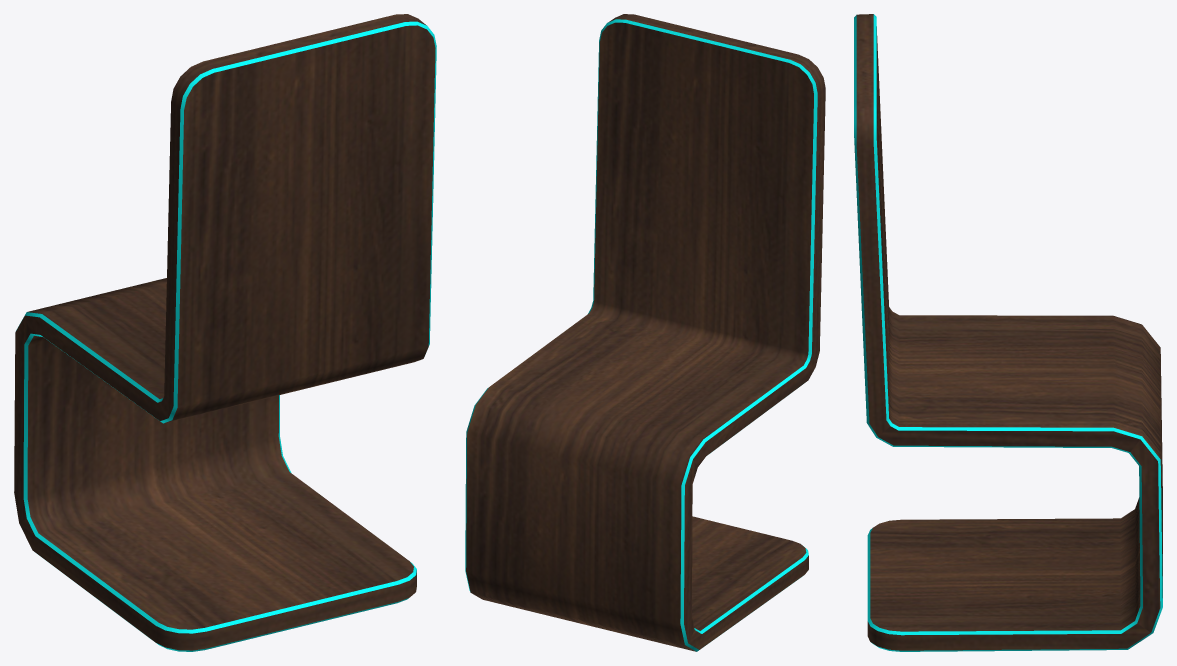
The model's file is FUR0310007.fbx.
3 renders of one model, left to right at view 1: azimuth 30°, elevation 25°; view 2: azimuth 150°, elevation 25°; view 3: azimuth 270°, elevation 25°, orthographic. The views are drawn at different scales.
Parts seen in each view (by area): view 1: smFUR0310007; view 2: smFUR0310007; view 3: smFUR0310007.
Part boxes in pixels (x1=…): smFUR0310007: x1=14, y1=14, x2=436, y2=651; smFUR0310007: x1=465, y1=14, x2=825, y2=651; smFUR0310007: x1=854, y1=14, x2=1162, y2=651.
Size of the model in its own units: 63.96 by 140 by 73.15.
Materials: 1 (1 with a texture image).
